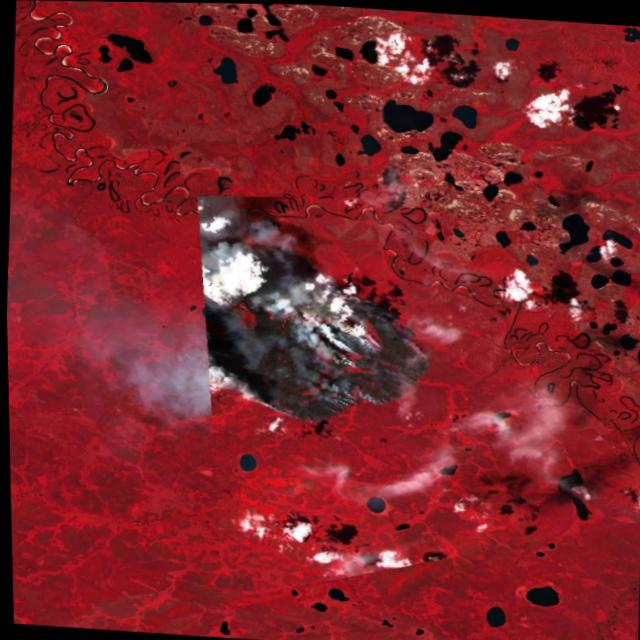fire: (187, 231, 457, 438)
